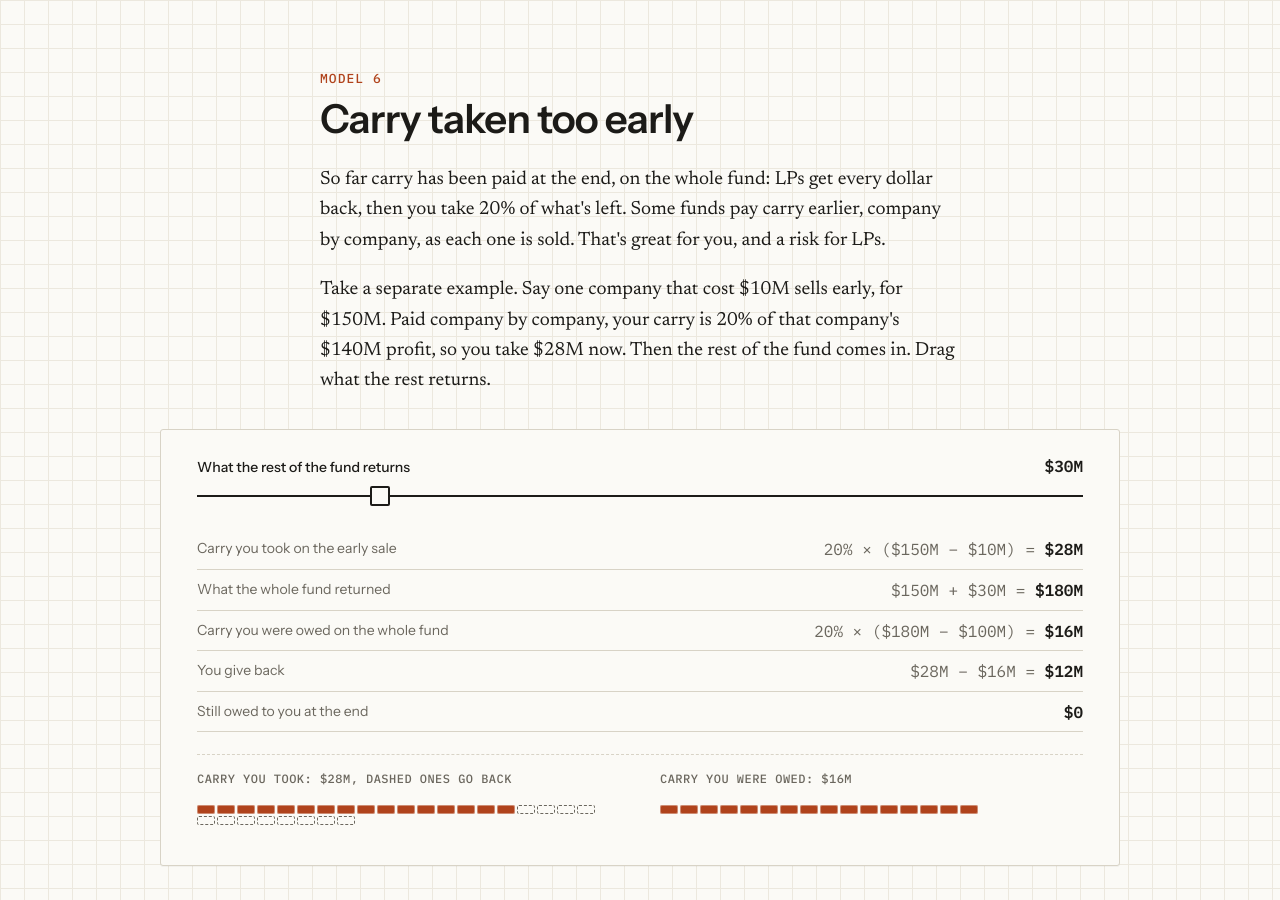
Scenario: Part two, model 6: carry taken too early › gives back what was taken above the whole-fund carry
This screenshot has width=1280, height=900.
Set the slider labelled "What the rest of the fund returns" to "0". click: point(205, 496)
box: left=197, top=482, right=1083, bottom=510
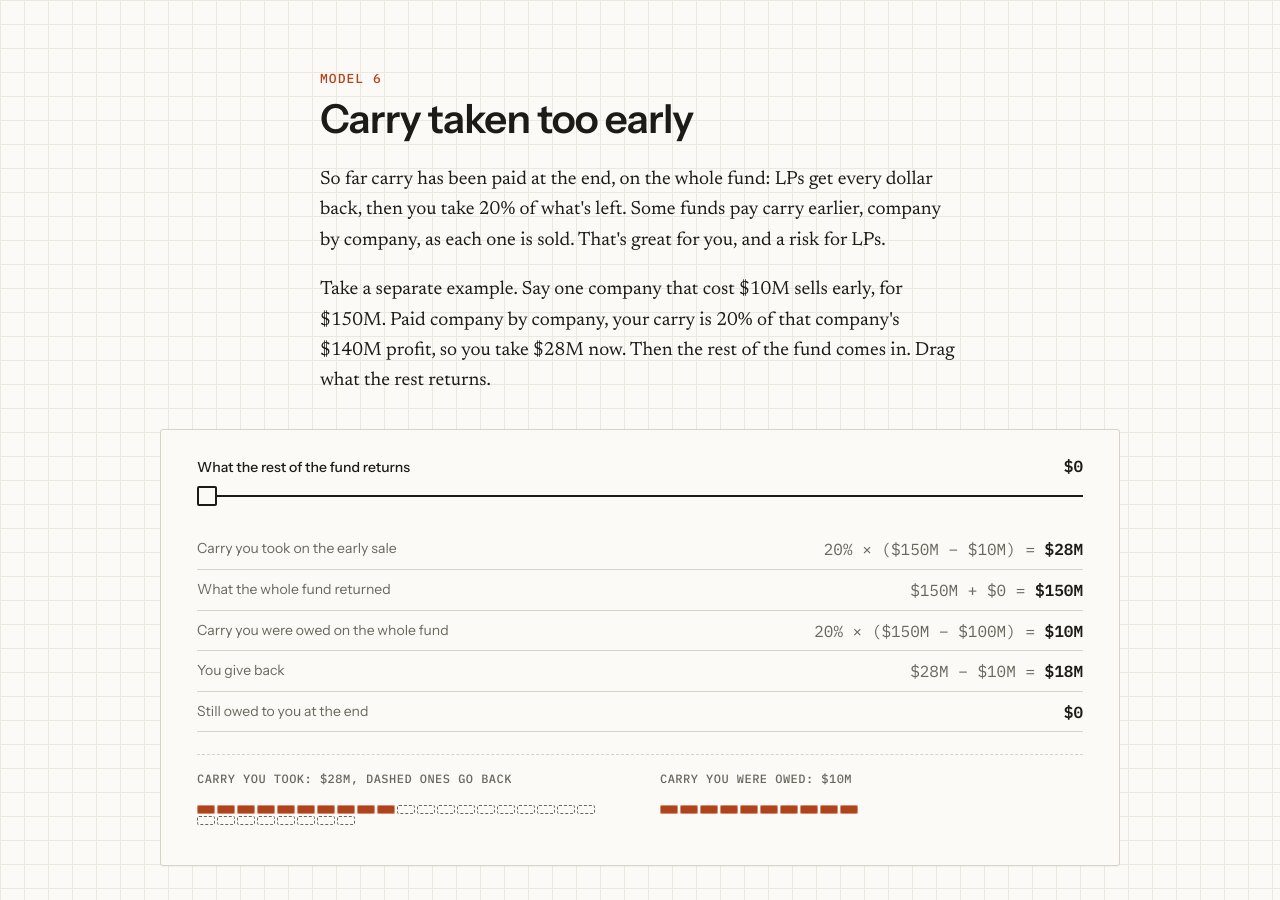
Check: the element with test id "f6c-owed" reads "20% × ($150M − $100M) = $10M", box left=814, top=620, right=1083, bottom=642
Check: the element with test id "f6c-back" reads "$28M − $10M = $18M", box left=910, top=661, right=1083, bottom=683
